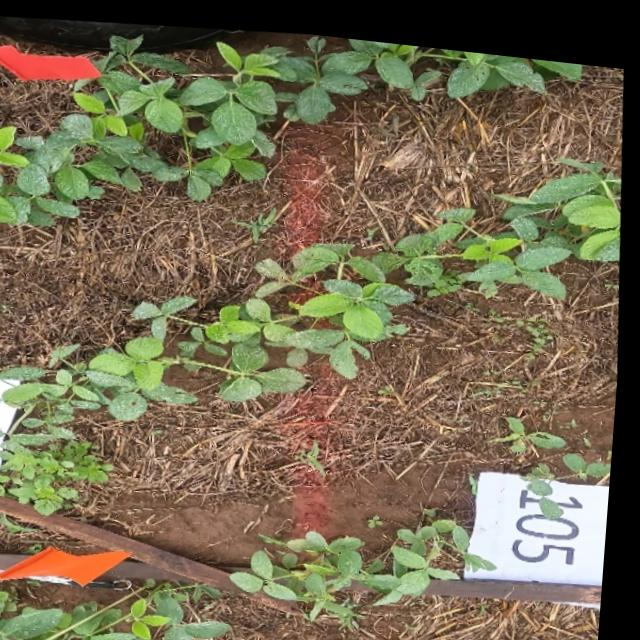caruru_weed: (0, 438, 118, 512), (491, 298, 557, 346)
grassy_weed: (236, 202, 278, 237), (301, 433, 331, 468)
soy_plant: (0, 148, 623, 479), (0, 30, 583, 224), (239, 499, 501, 617), (0, 578, 238, 640), (497, 404, 570, 440), (568, 439, 617, 465), (532, 451, 559, 483), (547, 485, 568, 504), (374, 505, 389, 519)
